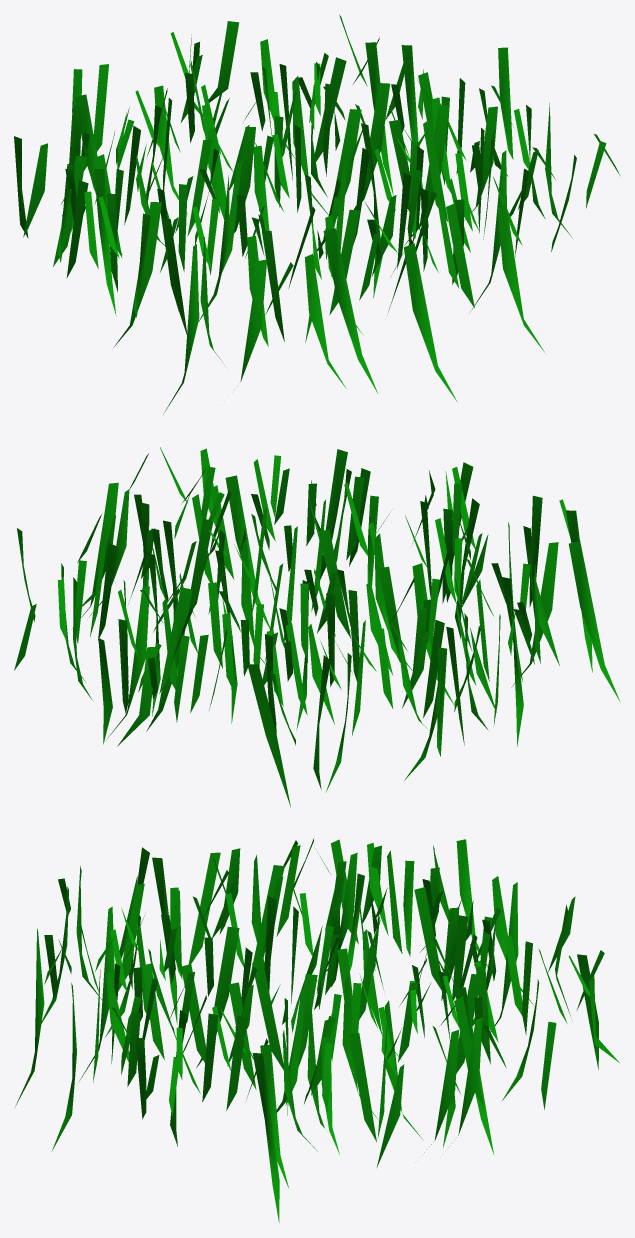
The model's file is grassLod2.obj.
3 renders of one model, top to bottom at view 1: azimuth 30°, elevation 25°; view 2: azimuth 150°, elevation 25°; view 3: azimuth 270°, elevation 25°, orthographic. The views are drawn at different scales.
Parts seen in each view (by area): view 1: GrassLOD1_Mesh; view 2: GrassLOD1_Mesh; view 3: GrassLOD1_Mesh.
Boxes of the visible parts, <box> form: GrassLOD1_Mesh: <box>14,14,619,414</box>; GrassLOD1_Mesh: <box>14,447,619,807</box>; GrassLOD1_Mesh: <box>15,838,619,1222</box>.
Size of the model in its own units: 0.7807 by 0.2494 by 0.8341.
